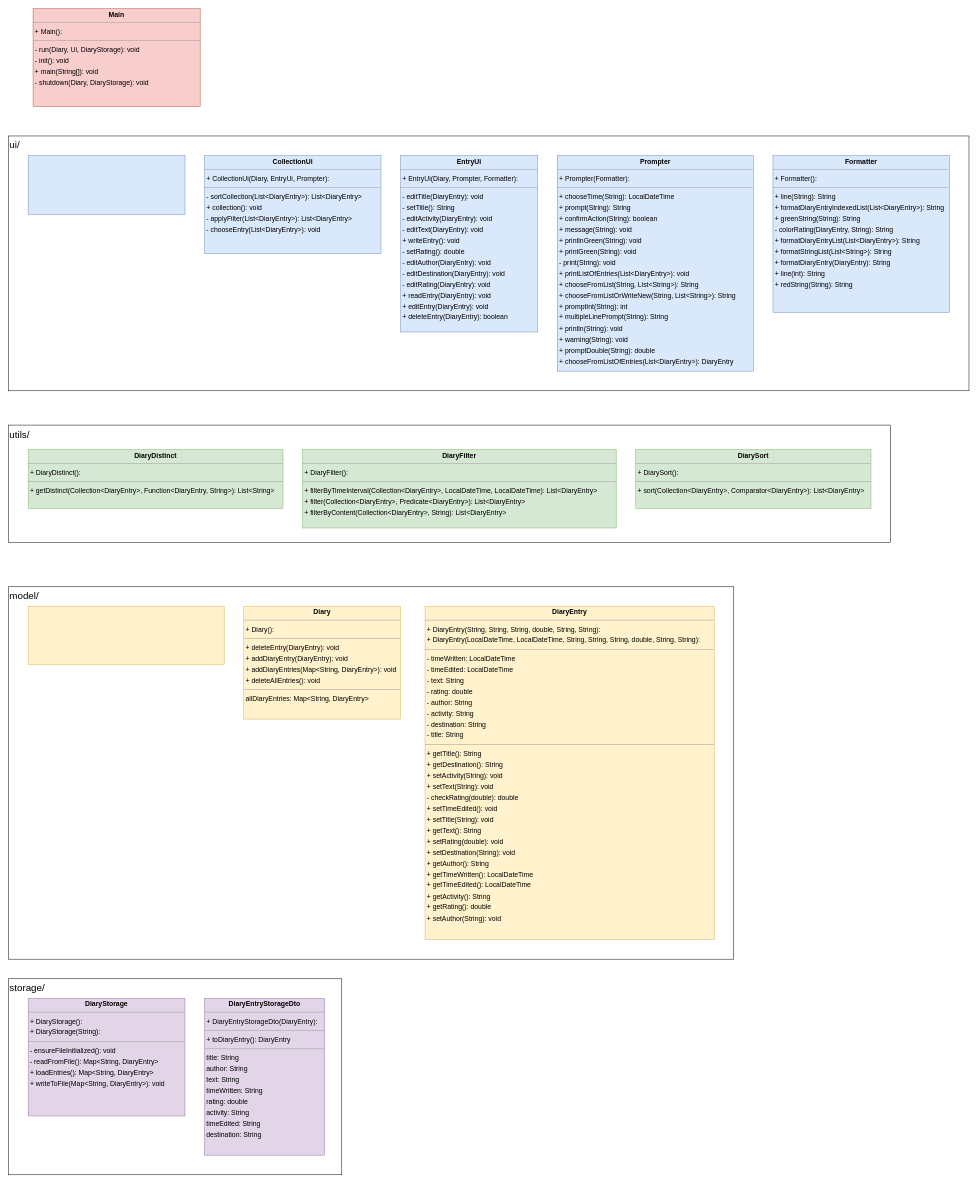
The diagram is 978 pixels wide and 1183 high, and some of its shapes have lost their labels. Each missing label, with the centre of its shape:
EntryFactory + EntryFactory(): + fabricateEntries(): Map<String, DiaryEntry>: (x=126, y=635)
Ui + Ui(Prompter, Diary, EntryUi, CollectionUi): + run(): void: (x=106, y=184)
